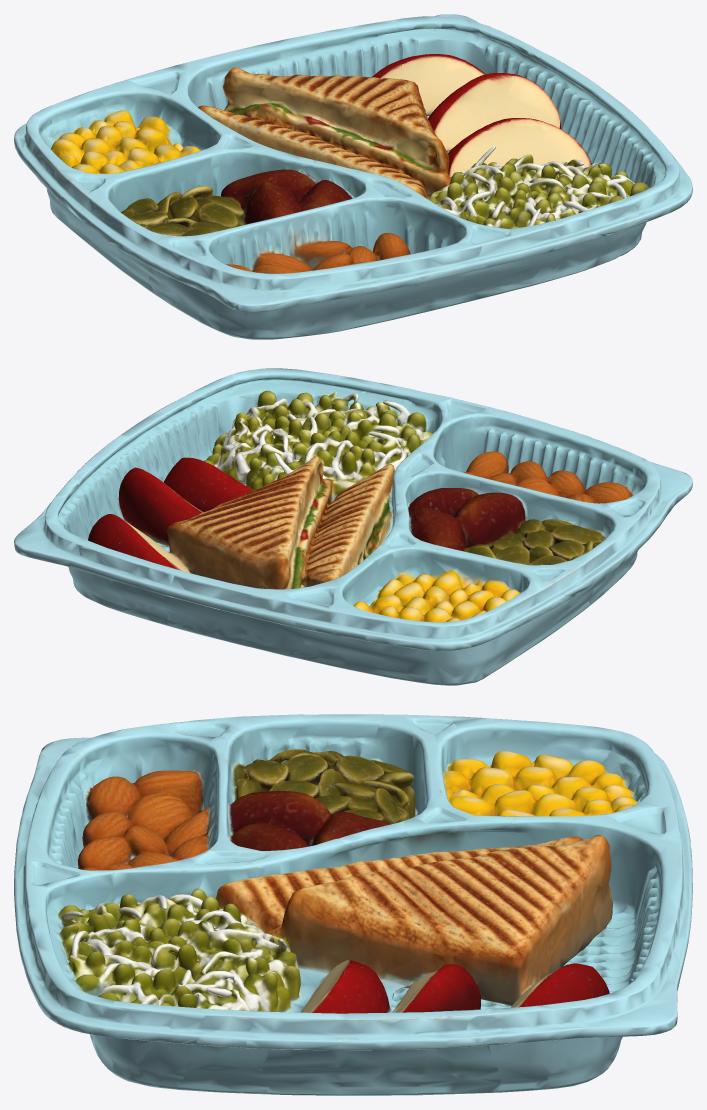
File: Kid_veg_sandwhich.glb
3 views of the same model, one above another, from view 1: azimuth 30°, elevation 25°; view 2: azimuth 150°, elevation 25°; view 3: azimuth 270°, elevation 25° (orthographic). The views are drawn at different scales.
Bounding box in the file's own units: 1.9 × 0.3345 × 1.72.
1 material, 1 textured.
